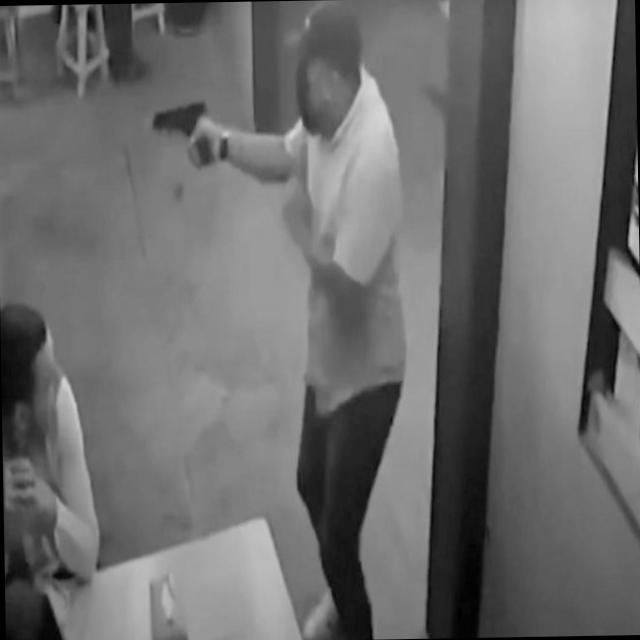gun: (149, 99, 218, 168)
